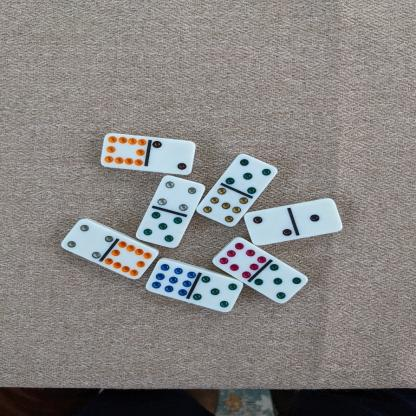pip-1: (292, 199, 342, 236)
pip-10: (102, 240, 156, 279), (100, 132, 147, 167)
pip-2: (244, 207, 294, 245), (148, 138, 195, 175)
pip-4: (60, 218, 113, 258), (157, 173, 203, 211)
pip-5: (252, 263, 306, 304), (224, 154, 276, 194), (192, 274, 242, 312), (135, 208, 182, 246)
pip-7: (197, 186, 247, 226)
pip-8: (212, 237, 266, 278)
pip-9: (145, 258, 195, 296)
